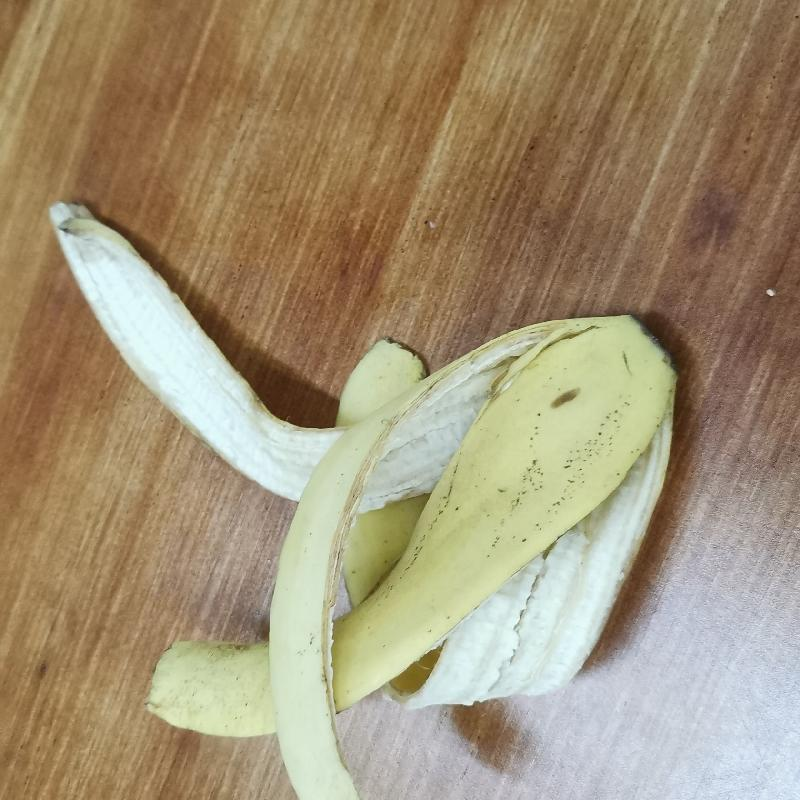bananas: (42, 184, 681, 799)
